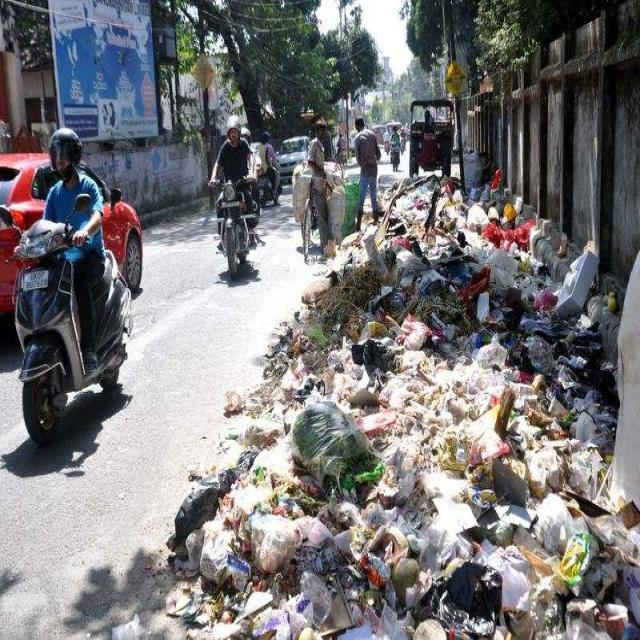garbage: (163, 134, 640, 640)
